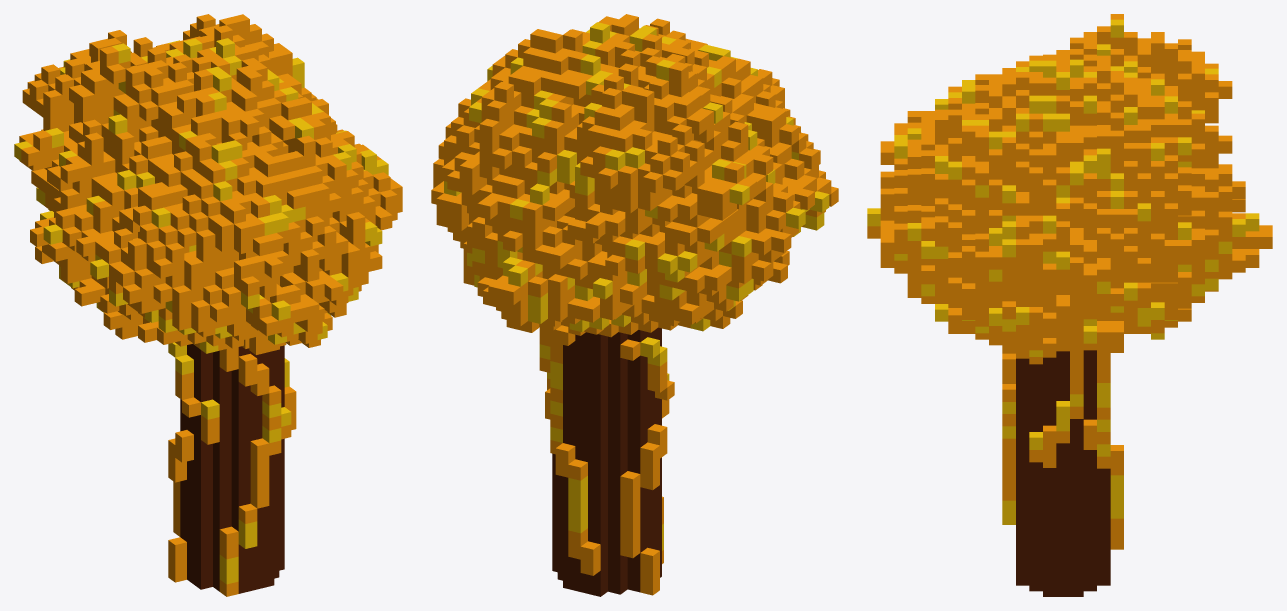
The model's file is Arvore Amarela.obj.
3 renders of one model, left to right at view 1: azimuth 30°, elevation 25°; view 2: azimuth 150°, elevation 25°; view 3: azimuth 270°, elevation 25°, orthographic. The views are drawn at different scales.
Size of the model in its own units: 2.7 by 4.2 by 3.
1 material, 1 textured.
